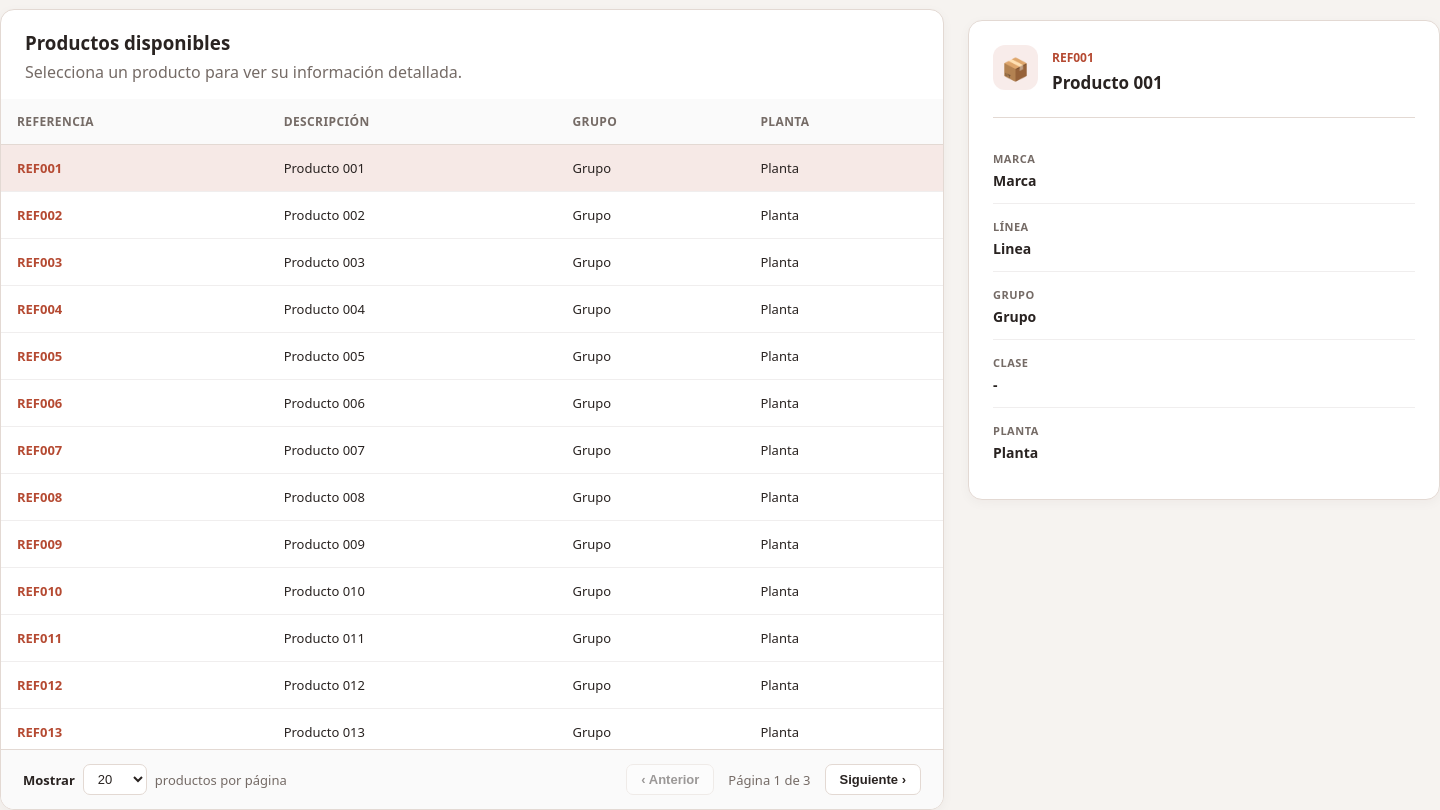
Scenario: Productos › paginación › deshabilita 'Siguiente' en la última página
The image size is (1440, 810).
(page scrolled)
What coordinates should you click on to do the following:
click the button "Siguiente ›"
I would click on:
 (873, 780)
Its box is [824, 764, 921, 795].
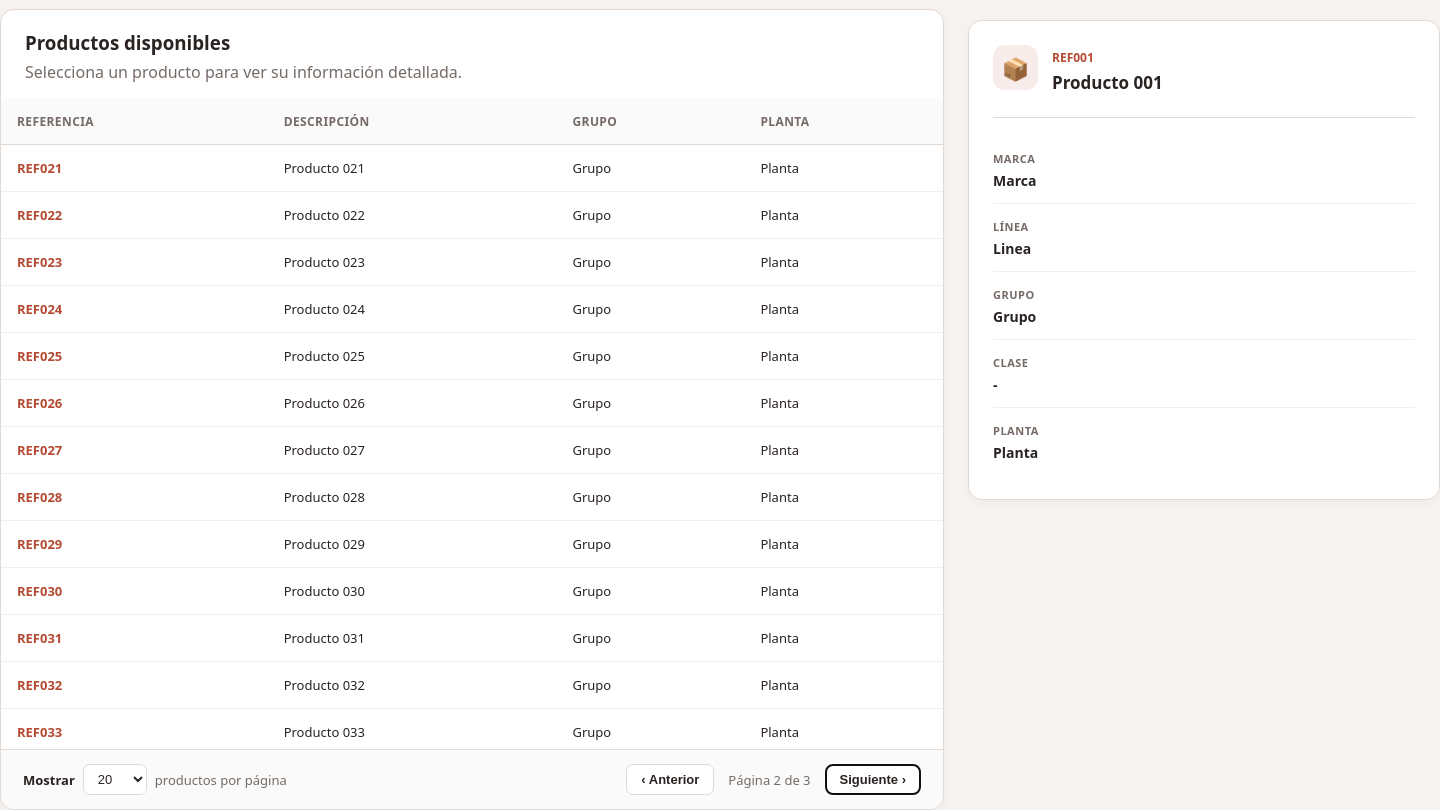
What coordinates should you click on to do the following:
click the button "Siguiente ›"
I would click on:
 (873, 780)
Its box is [824, 764, 921, 795].
(page scrolled)
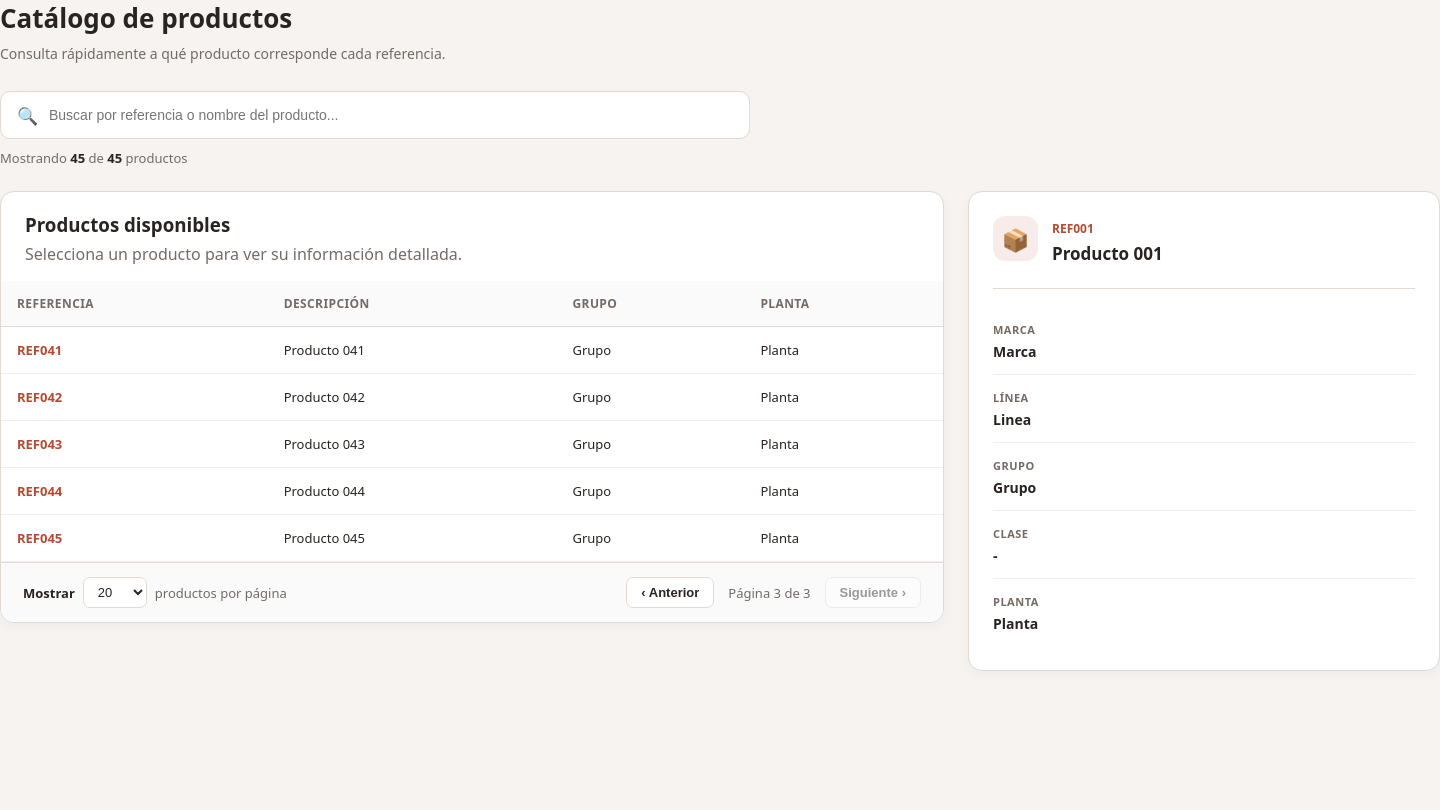
Now the text "Página 3 de 3" is shown, box [728, 584, 811, 602]
Now the button "Siguiente ›" is disabled, box [824, 577, 921, 608]
Now the text "Producto 045" is shown, box [268, 514, 556, 562]
